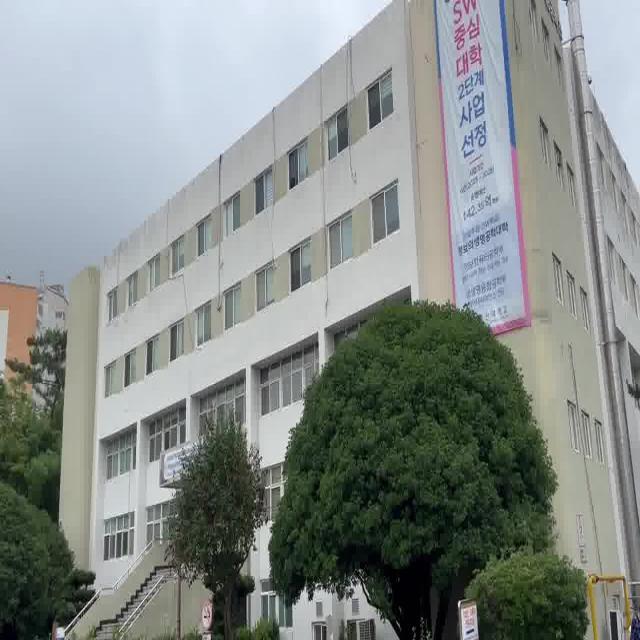building: (74, 185, 306, 455)
